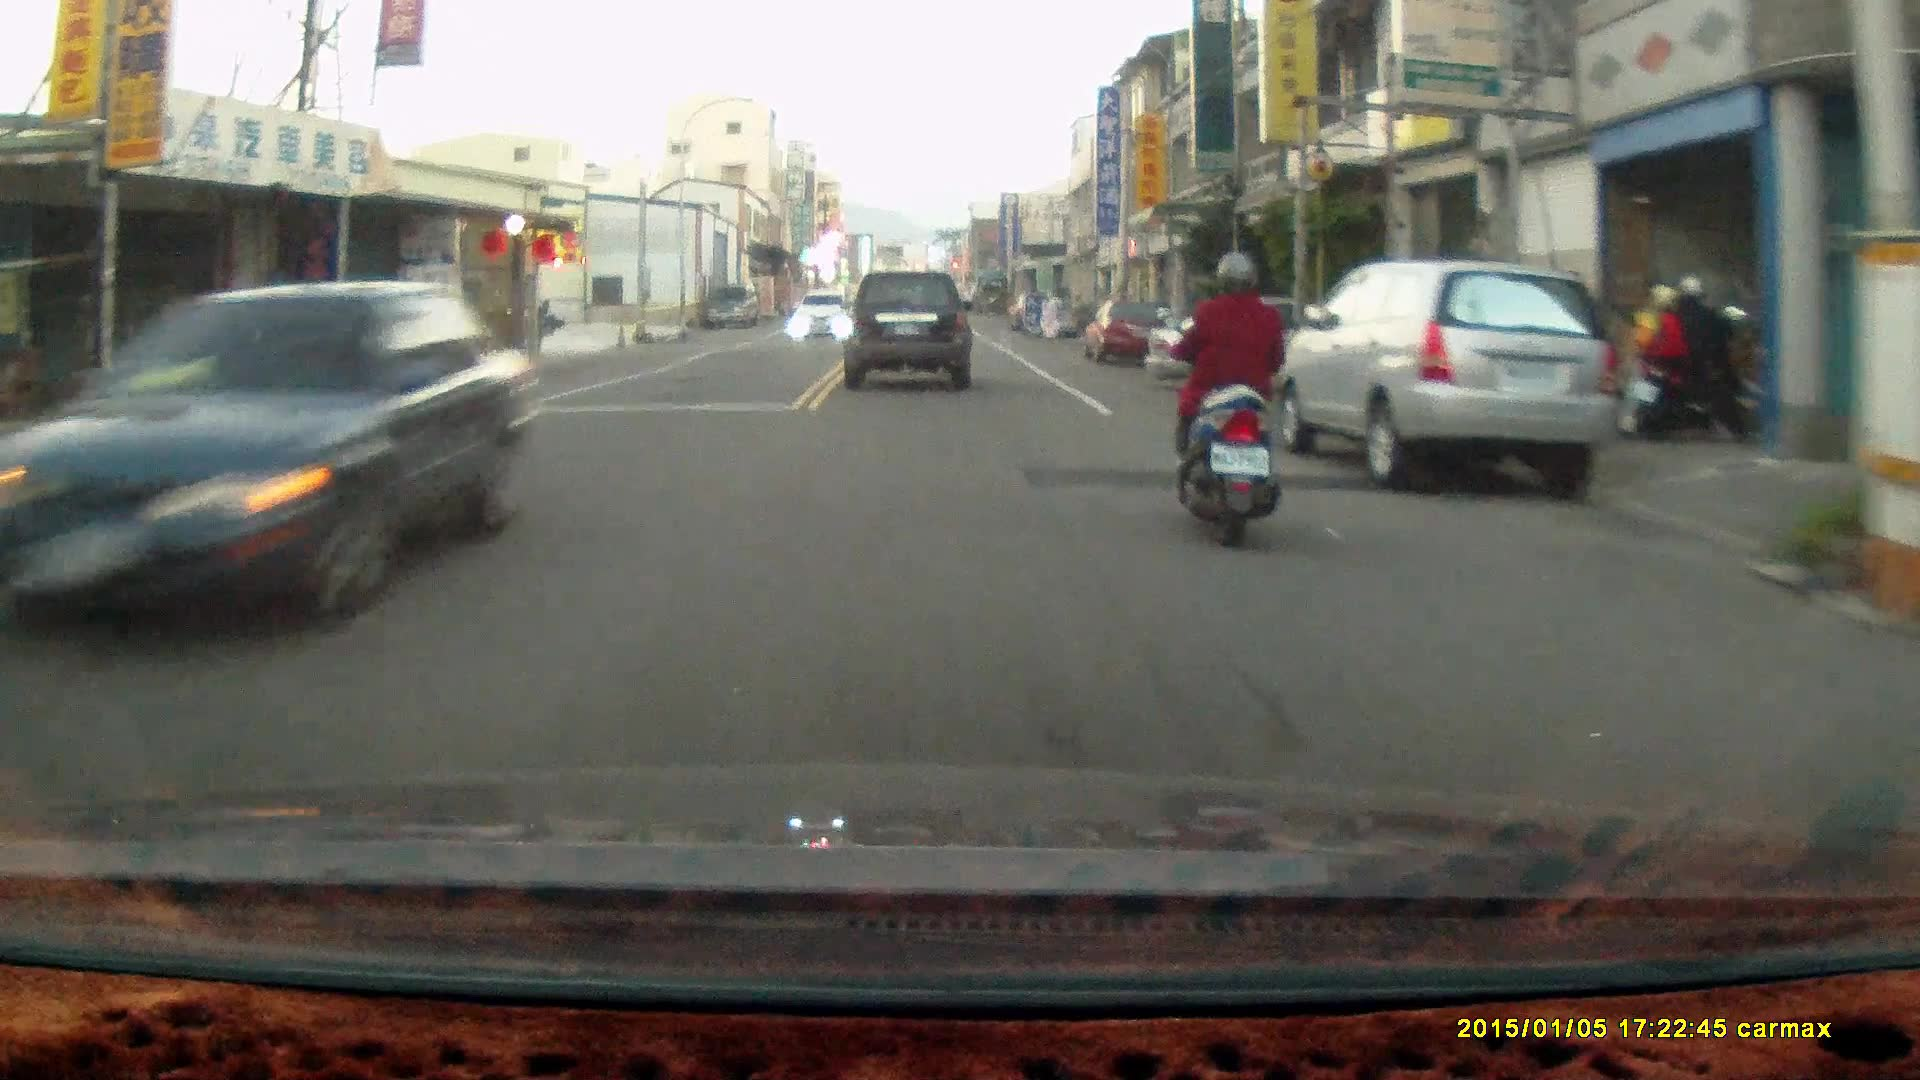rider: (1156, 250, 1283, 550), (1628, 275, 1753, 446)
vehicle: (1, 279, 526, 644), (1280, 259, 1621, 490), (843, 267, 975, 393), (1083, 301, 1172, 369), (789, 291, 848, 339)
